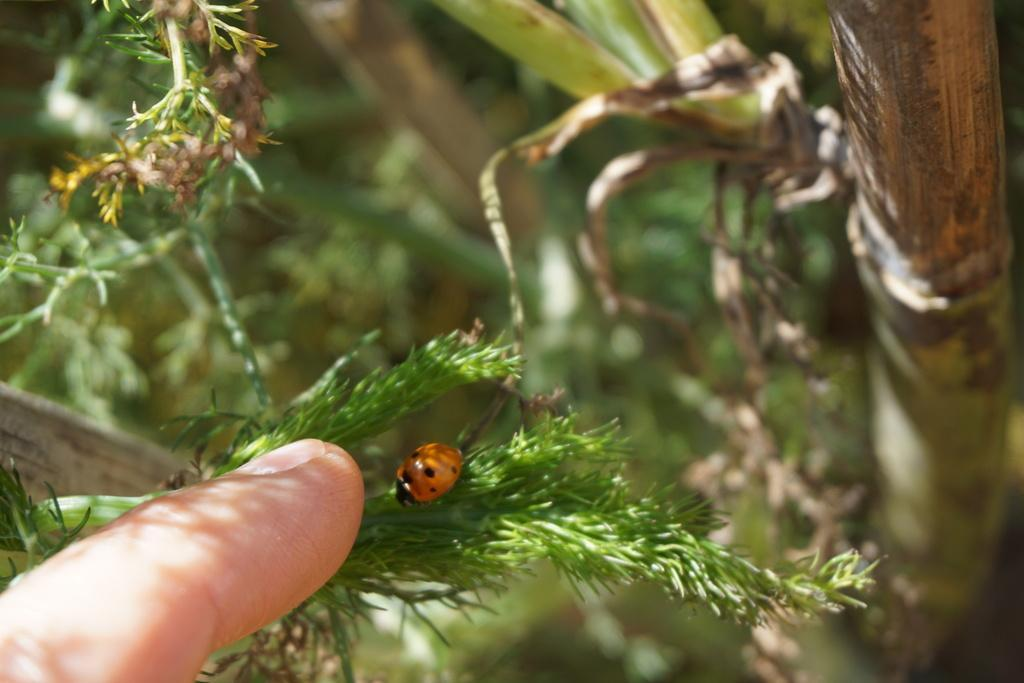ladybug: (391, 440, 467, 512)
